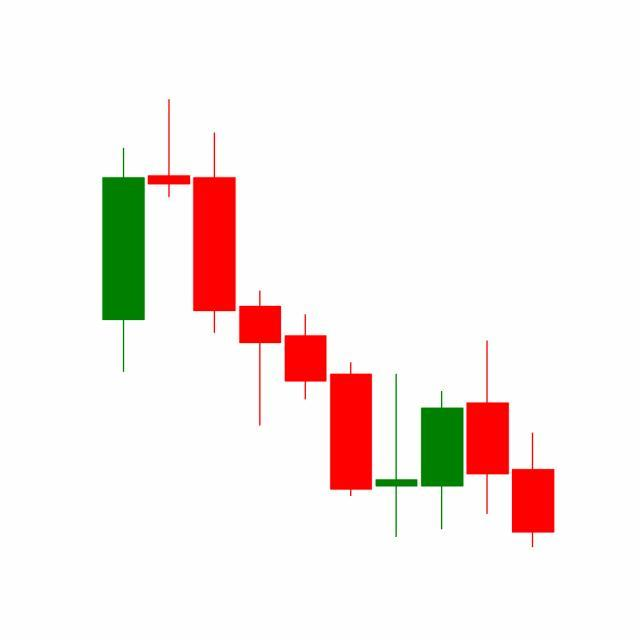Hikkake Pattern: (283, 313, 512, 541)
